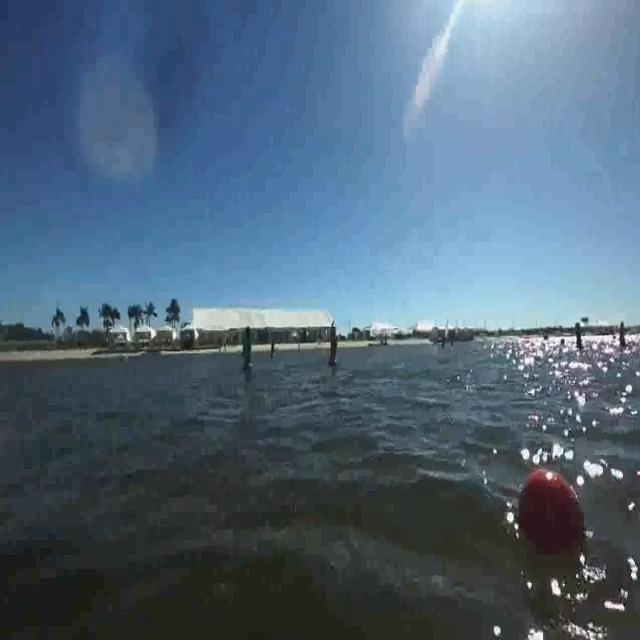green-column-buoy: (241, 326, 256, 372)
red-buoy: (509, 462, 589, 568)
red-column-buoy: (325, 326, 340, 368)
